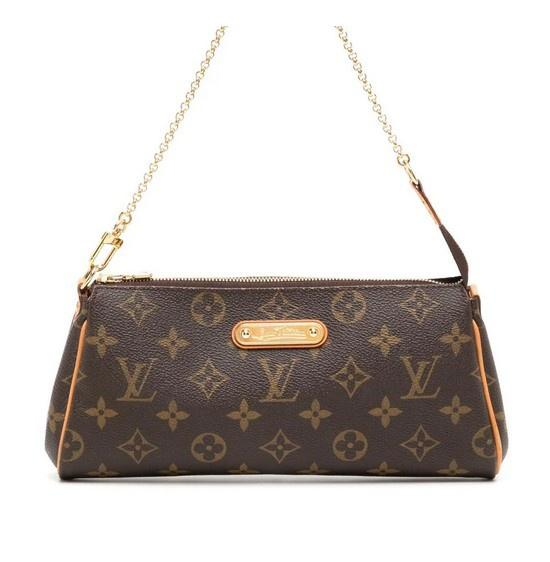LOUIS-VUITTON: (41, 269, 514, 483)
